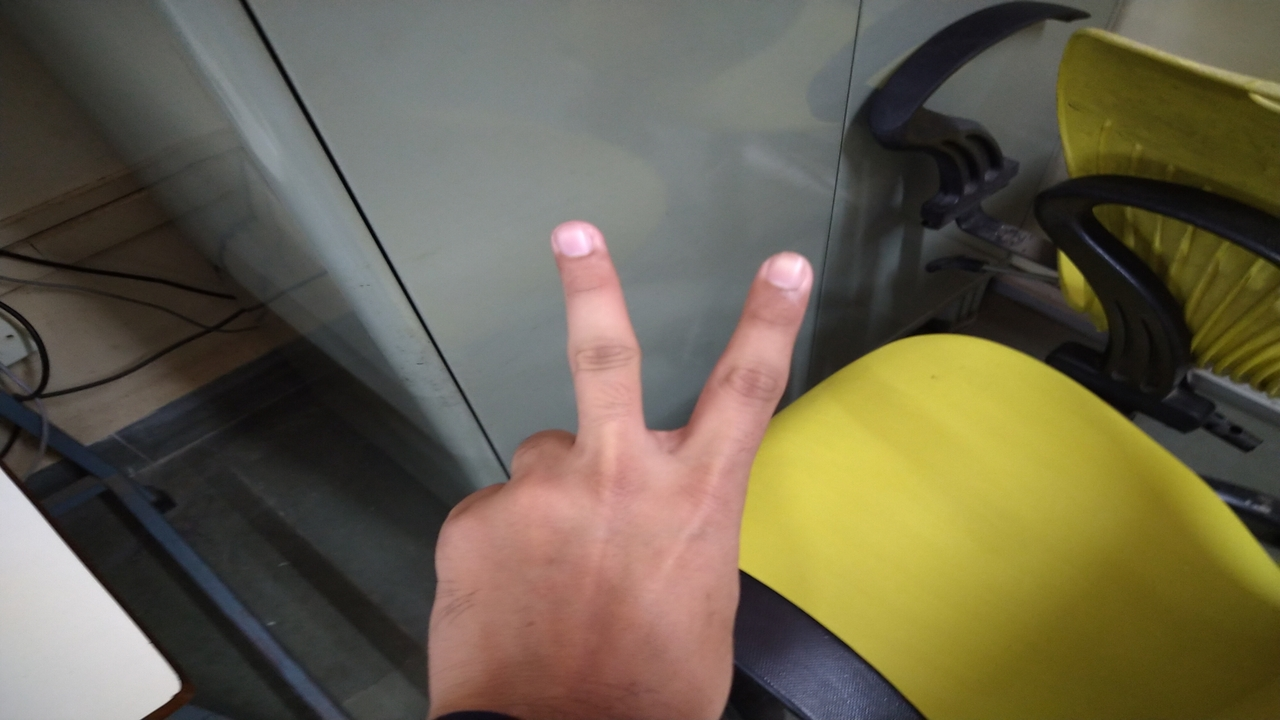fingertip: (746, 242, 818, 314), (544, 212, 612, 276)
